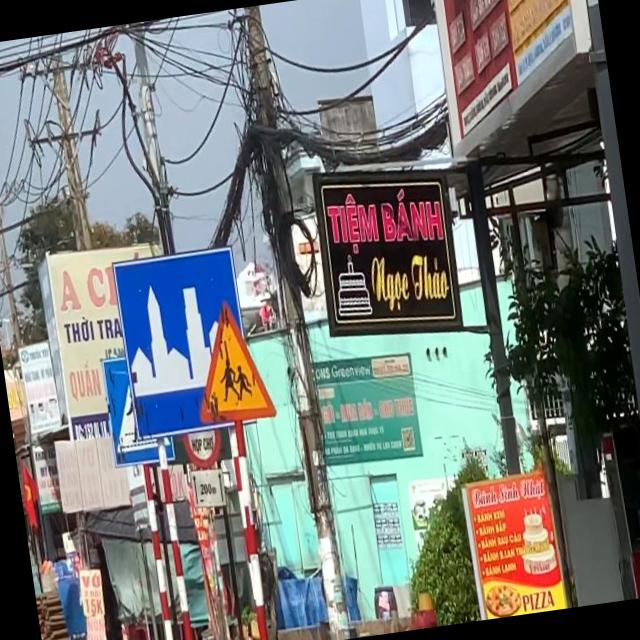W-225: (183, 292, 278, 432)
